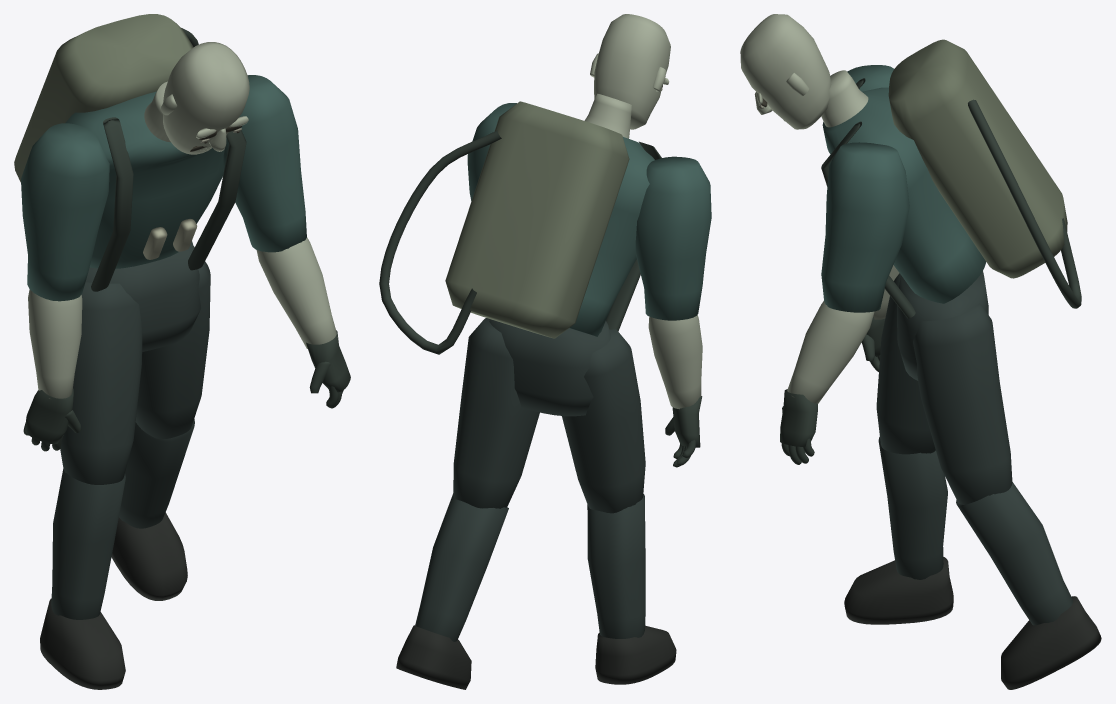
File: enemy-lab-blackout.glb
The picture shows the model from 3 angles, left to right: view 1: azimuth 30°, elevation 25°; view 2: azimuth 150°, elevation 25°; view 3: azimuth 270°, elevation 25°; orthographic projection. The views are drawn at different scales.
Parts seen in each view (by area): view 1: Electrical jacket sleeve_UpperArm_L, Trouser thigh_L, Dorsal power case, Chest, Electrical jacket sleeve_UpperArm_R, Trouser shin_L, Anatomical head, Trouser thigh_R, Waist, Shoe_L, Forearm anatomy_R, Trouser shin_R (+9 smaller); view 2: Dorsal power case, Trouser thigh_R, Electrical jacket sleeve_UpperArm_L, Trouser thigh_L, Trouser shin_R, Trouser shin_L, Waist, Anatomical head, Chest, Forearm anatomy_L, Looped power cable, Shoe_L (+5 smaller); view 3: Dorsal power case, Trouser thigh_R, Electrical jacket sleeve_UpperArm_R, Chest, Trouser shin_R, Anatomical head, Trouser shin_L, Shoe_L, Trouser thigh_L, Shoe_R, Forearm anatomy_R, Looped power cable (+5 smaller).
Boxes of the visible parts, x1,y1,x2,y2 form: Electrical jacket sleeve_UpperArm_L: (21, 123, 109, 301); Trouser thigh_L: (60, 282, 142, 484); Dorsal power case: (14, 14, 193, 182); Chest: (65, 91, 227, 268); Electrical jacket sleeve_UpperArm_R: (223, 75, 306, 252); Trouser shin_L: (51, 468, 125, 619); Anatomical head: (163, 42, 249, 154); Trouser thigh_R: (135, 246, 210, 439); Waist: (85, 241, 200, 351); Shoe_L: (40, 598, 125, 689); Forearm anatomy_R: (256, 237, 337, 348); Trouser shin_R: (119, 419, 194, 528); Dorsal power case: (445, 101, 629, 338); Trouser thigh_R: (453, 318, 539, 508); Electrical jacket sleeve_UpperArm_L: (635, 156, 711, 320); Trouser thigh_L: (562, 329, 645, 513); Trouser shin_R: (415, 493, 508, 641); Trouser shin_L: (587, 494, 645, 638); Waist: (489, 319, 610, 416); Anatomical head: (594, 14, 670, 129); Chest: (569, 137, 654, 336); Forearm anatomy_L: (648, 315, 702, 409); Looped power cable: (379, 130, 501, 354); Shoe_L: (595, 625, 676, 684); Dorsal power case: (888, 39, 1067, 278); Trouser thigh_R: (913, 303, 1012, 504); Electrical jacket sleeve_UpperArm_R: (821, 142, 909, 312); Chest: (822, 87, 985, 303); Trouser shin_R: (956, 482, 1072, 625); Anatomical head: (740, 14, 831, 129); Trouser shin_L: (878, 436, 947, 579); Shoe_L: (844, 557, 953, 624); Trouser thigh_L: (876, 273, 935, 454); Shoe_R: (1001, 596, 1101, 689); Forearm anatomy_R: (787, 301, 874, 403); Looped power cable: (968, 99, 1081, 308).
Size of the model in its own units: 0.7095 by 1.59 by 0.8223.
